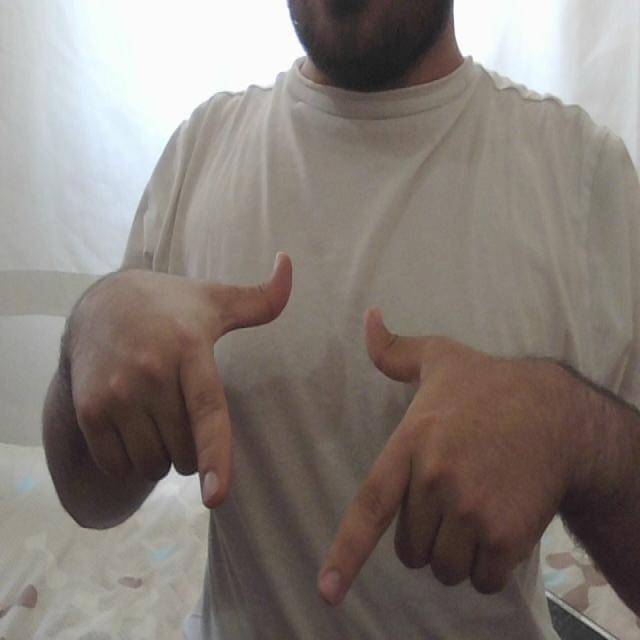Nerede: (181, 243, 445, 616)
